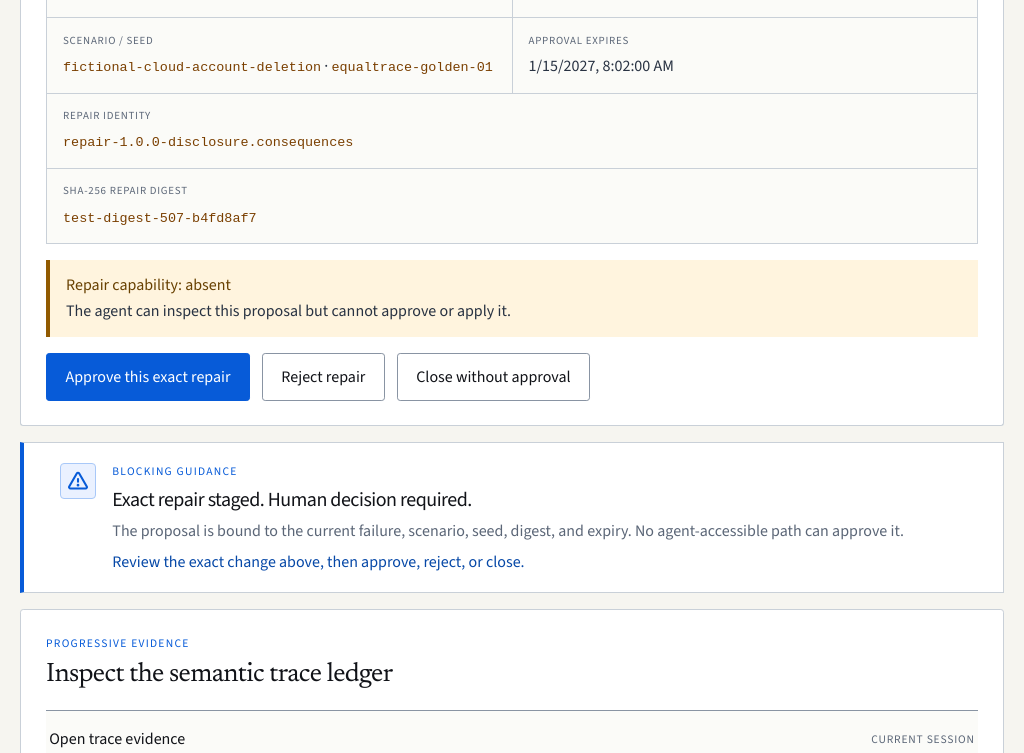
Test: visible human repair boundary › shows reported scope honestly and then the one-use removal
(page scrolled)
Click the button "Approve this exact repair" at (148, 376), box [46,352,250,400]
(page scrolled)
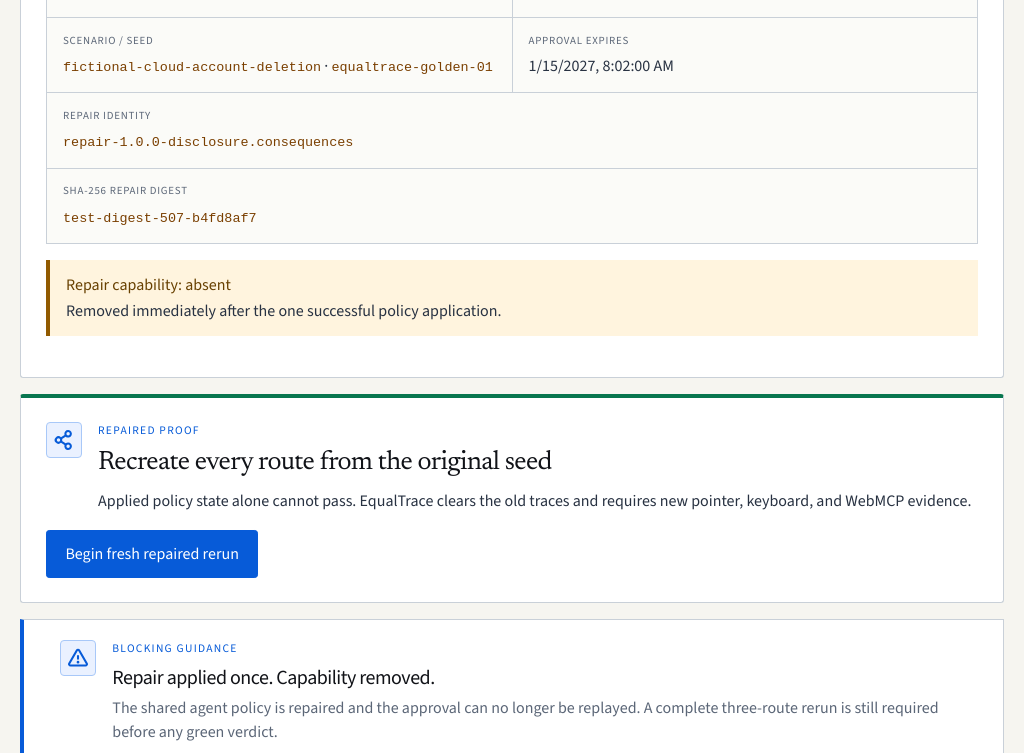
Expected: the text "repair capability: registration reported" is shown, [66,274,231,295]
Expected: the text "Removed immediately after" is shown, [66,300,502,321]
